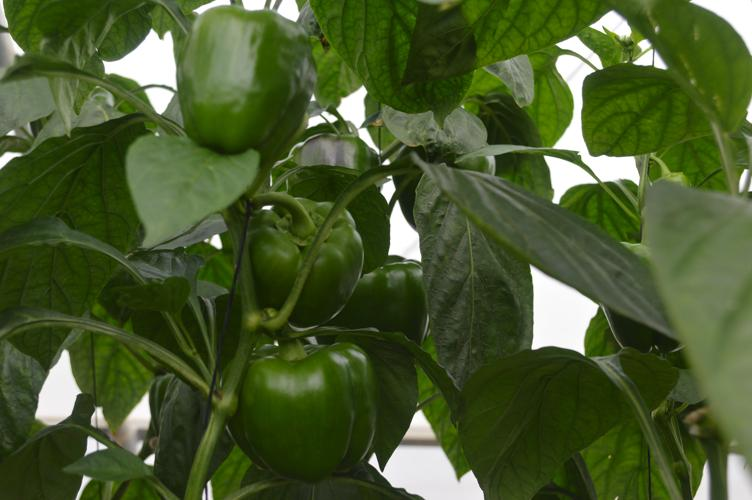BellPepper: (172, 7, 317, 150), (226, 342, 375, 479), (245, 201, 364, 326), (358, 261, 427, 344)
